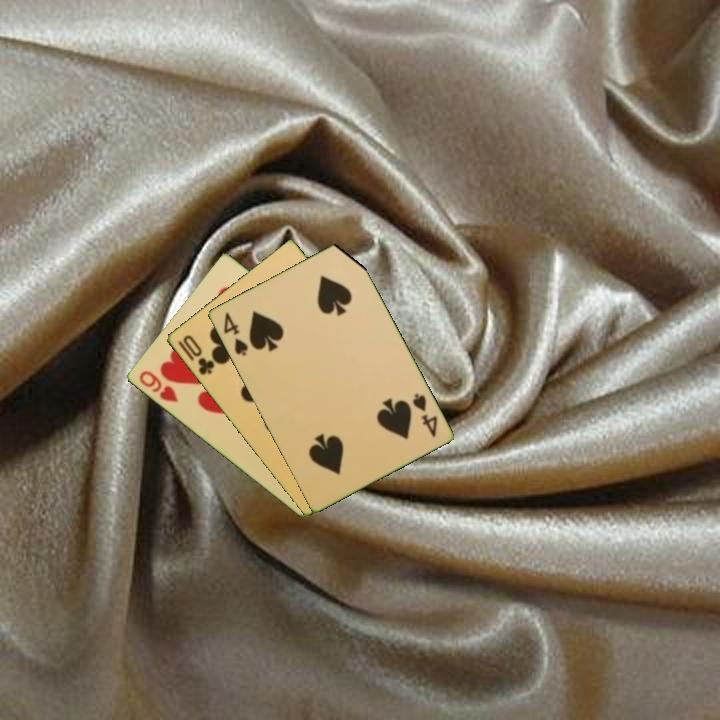10c: (174, 331, 217, 378)
4s: (219, 308, 251, 359), (408, 389, 440, 440)
9h: (135, 367, 181, 405)
